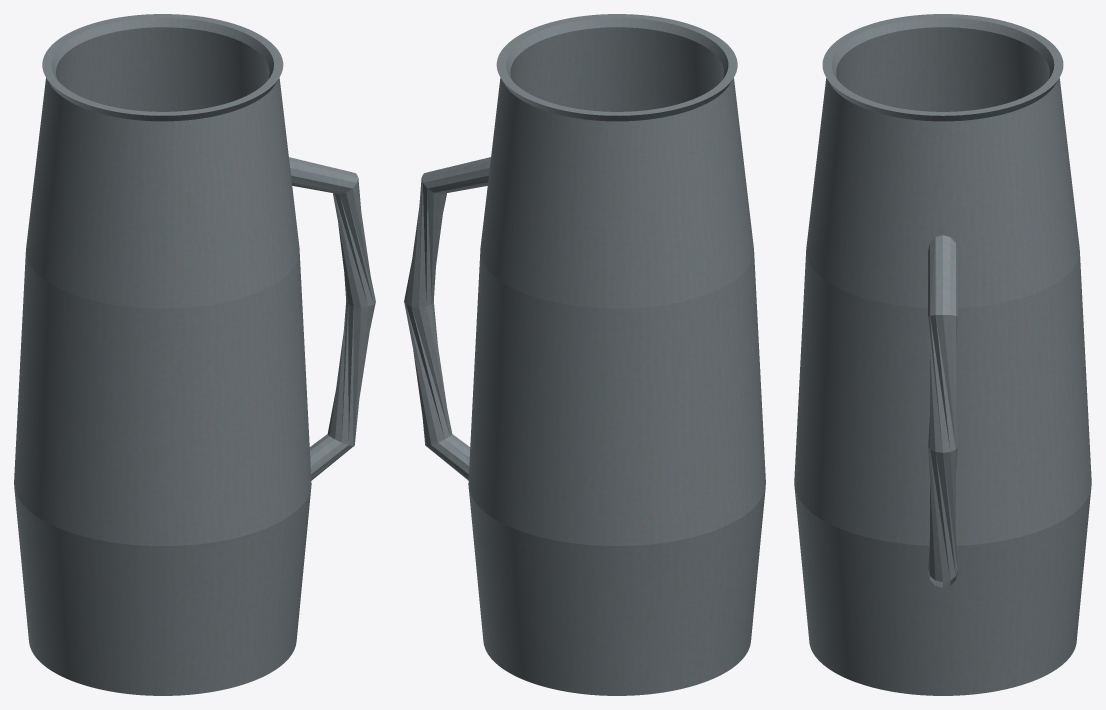
The model's file is misc_imp_silverware_pitcher.dae.
The picture shows the model from 3 angles, left to right: view 1: azimuth 30°, elevation 25°; view 2: azimuth 150°, elevation 25°; view 3: azimuth 270°, elevation 25°; orthographic projection.
Parts seen in each view (by area): view 1: silver; view 2: silver; view 3: silver.
Boxes of the visible parts, x1,y1,x2,y2 form: silver: (14,14,375,695); silver: (404,14,765,695); silver: (794,14,1091,695).
Size of the model in its own units: 19.05 by 14.44 by 31.11.
